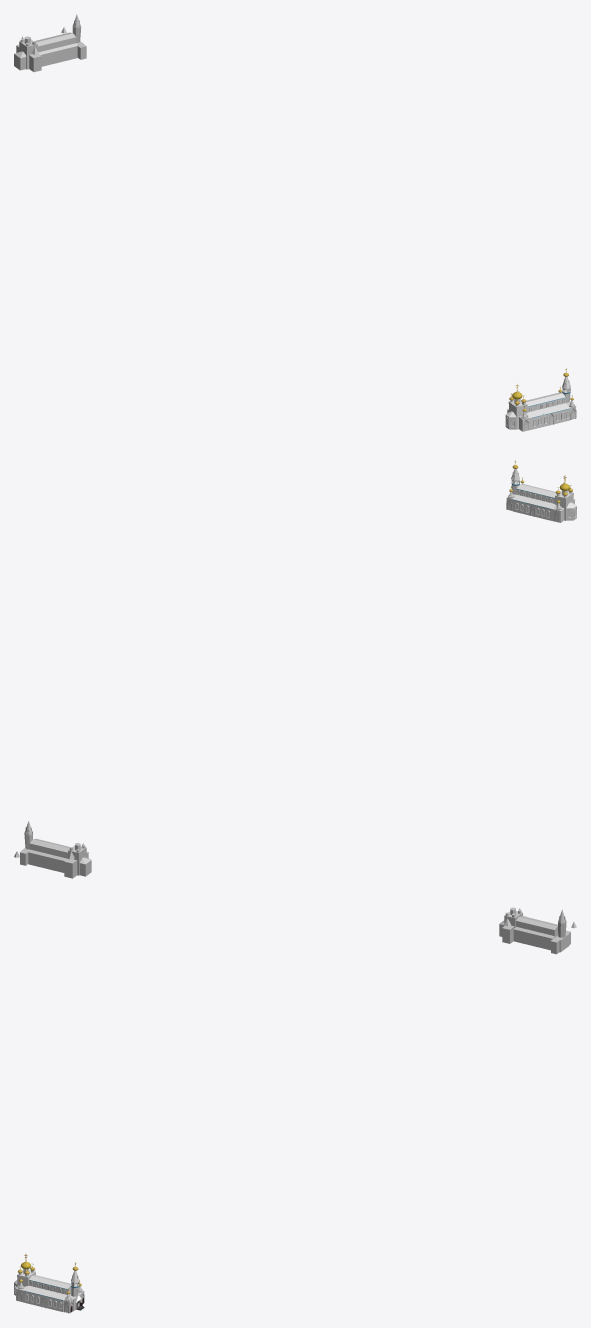
File: church2.fbx
3 renders of one model, top to bottom at view 1: azimuth 30°, elevation 25°; view 2: azimuth 150°, elevation 25°; view 3: azimuth 330°, elevation 25°, orthographic.
Visible parts, largest first — view 1: Cube.001, Cube; view 2: Cube.001, Cube; view 3: Cube.001, Cube.
Boxes of the visible parts, left/top/right/bottom form: Cube.001: left=14, top=14, right=86, bottom=72; Cube: left=505, top=380, right=576, bottom=431; Cube.001: left=14, top=821, right=91, bottom=878; Cube: left=506, top=472, right=576, bottom=522; Cube.001: left=499, top=907, right=576, bottom=954; Cube: left=14, top=1269, right=84, bottom=1313.
Size of the model in its own units: 105 by 66.94 by 1386.
